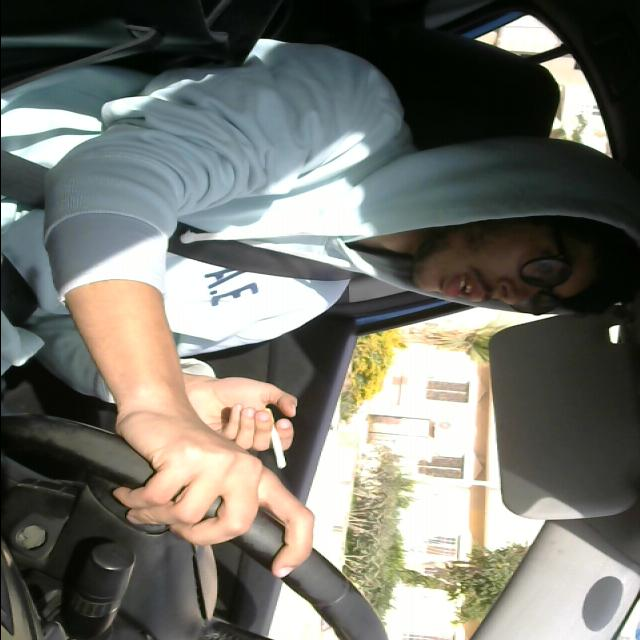smoking: (260, 401, 294, 476)
